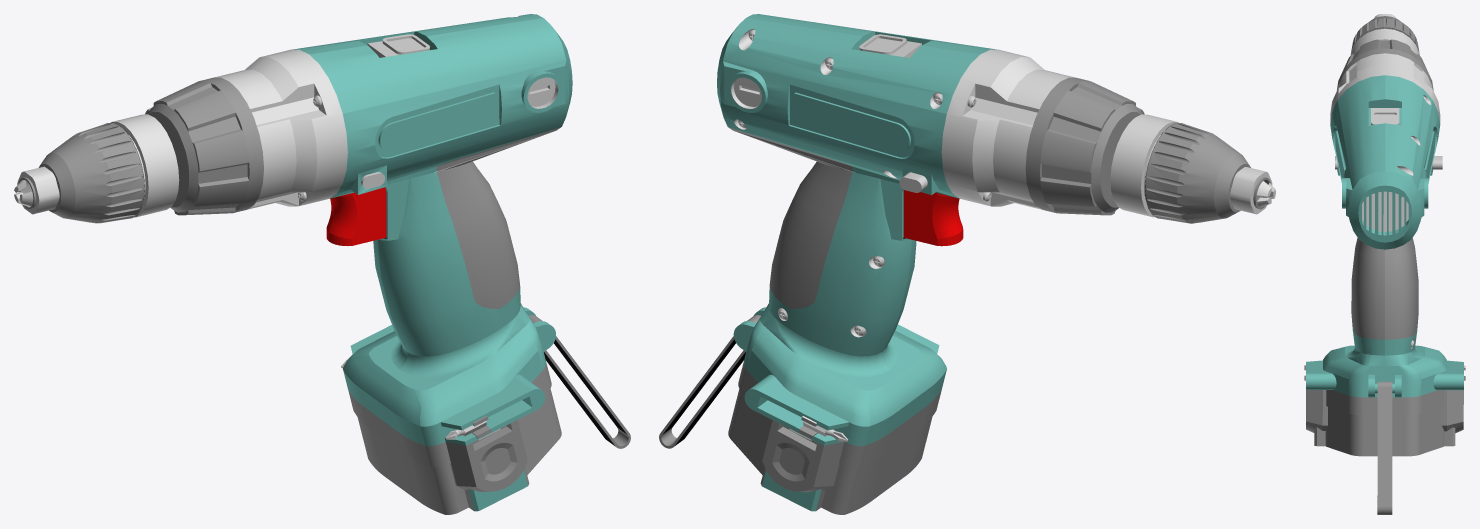
3 views of the same model, side by side, from view 1: azimuth 30°, elevation 25°; view 2: azimuth 150°, elevation 25°; view 3: azimuth 270°, elevation 25° (orthographic). The views are drawn at different scales.
Visible parts, largest first — view 1: Agrupar_43; view 2: Agrupar_43; view 3: Agrupar_43.
Boxes of the visible parts, x1=… form: Agrupar_43: x1=14, y1=14, x2=630, y2=514; Agrupar_43: x1=659, y1=14, x2=1275, y2=514; Agrupar_43: x1=1304, y1=14, x2=1465, y2=514.
Size of the model in its own units: 0.334 by 0.2444 by 0.1075.
